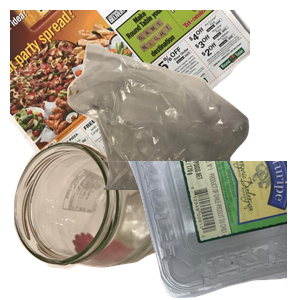glass: (11, 139, 179, 300)
paper: (10, 10, 250, 190)
plastic: (60, 161, 300, 300)
trash: (65, 41, 300, 221)
